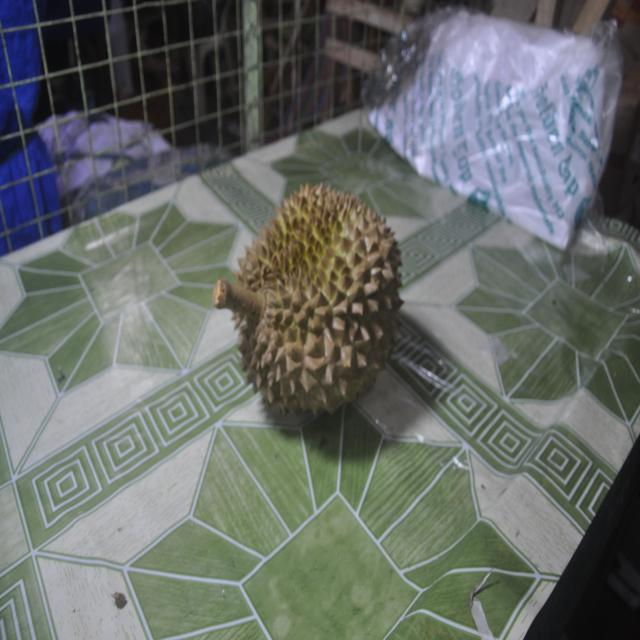mature: (214, 185, 402, 412)
